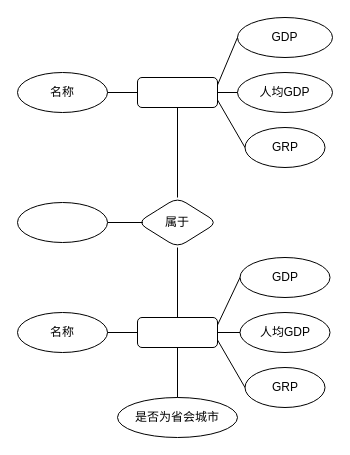
Image size: 350x455. Some labels were removed from this diagram. The shapes that lost their labels are listed below. From the top down, each one's centre as x and y in pixels, then its label:
[177,92]: 省份
[62,222]: 年份
[177,332]: 城市
